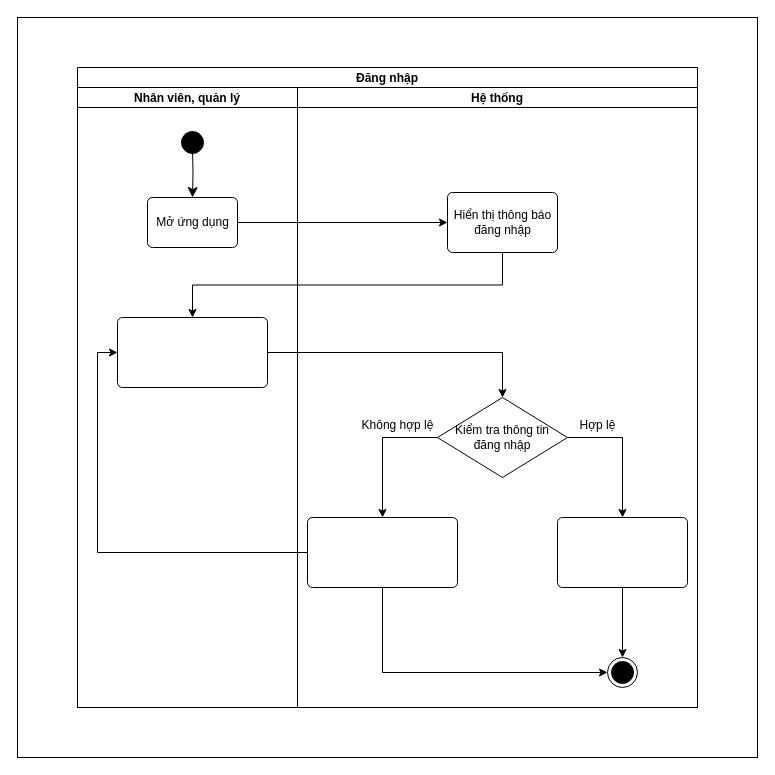
Image size: 775x775. Some labels were removed from this diagram. Here are the shapes that lost their labels. From the top down, the centre of each, then its label:
the point at 192,352: Nhập thông tin đăng nhập (id, mật khẩu)
the point at 382,552: Hiện thông báo đăng nhập thất bại và yêu cầu đăng nhập lại
the point at 622,552: Hiện thị các chức năng của ứng dụng
